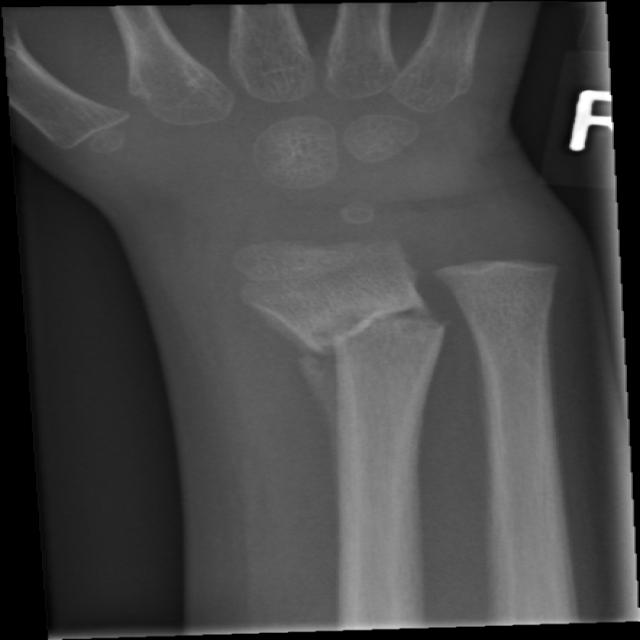radius fracture: (246, 277, 460, 438)
